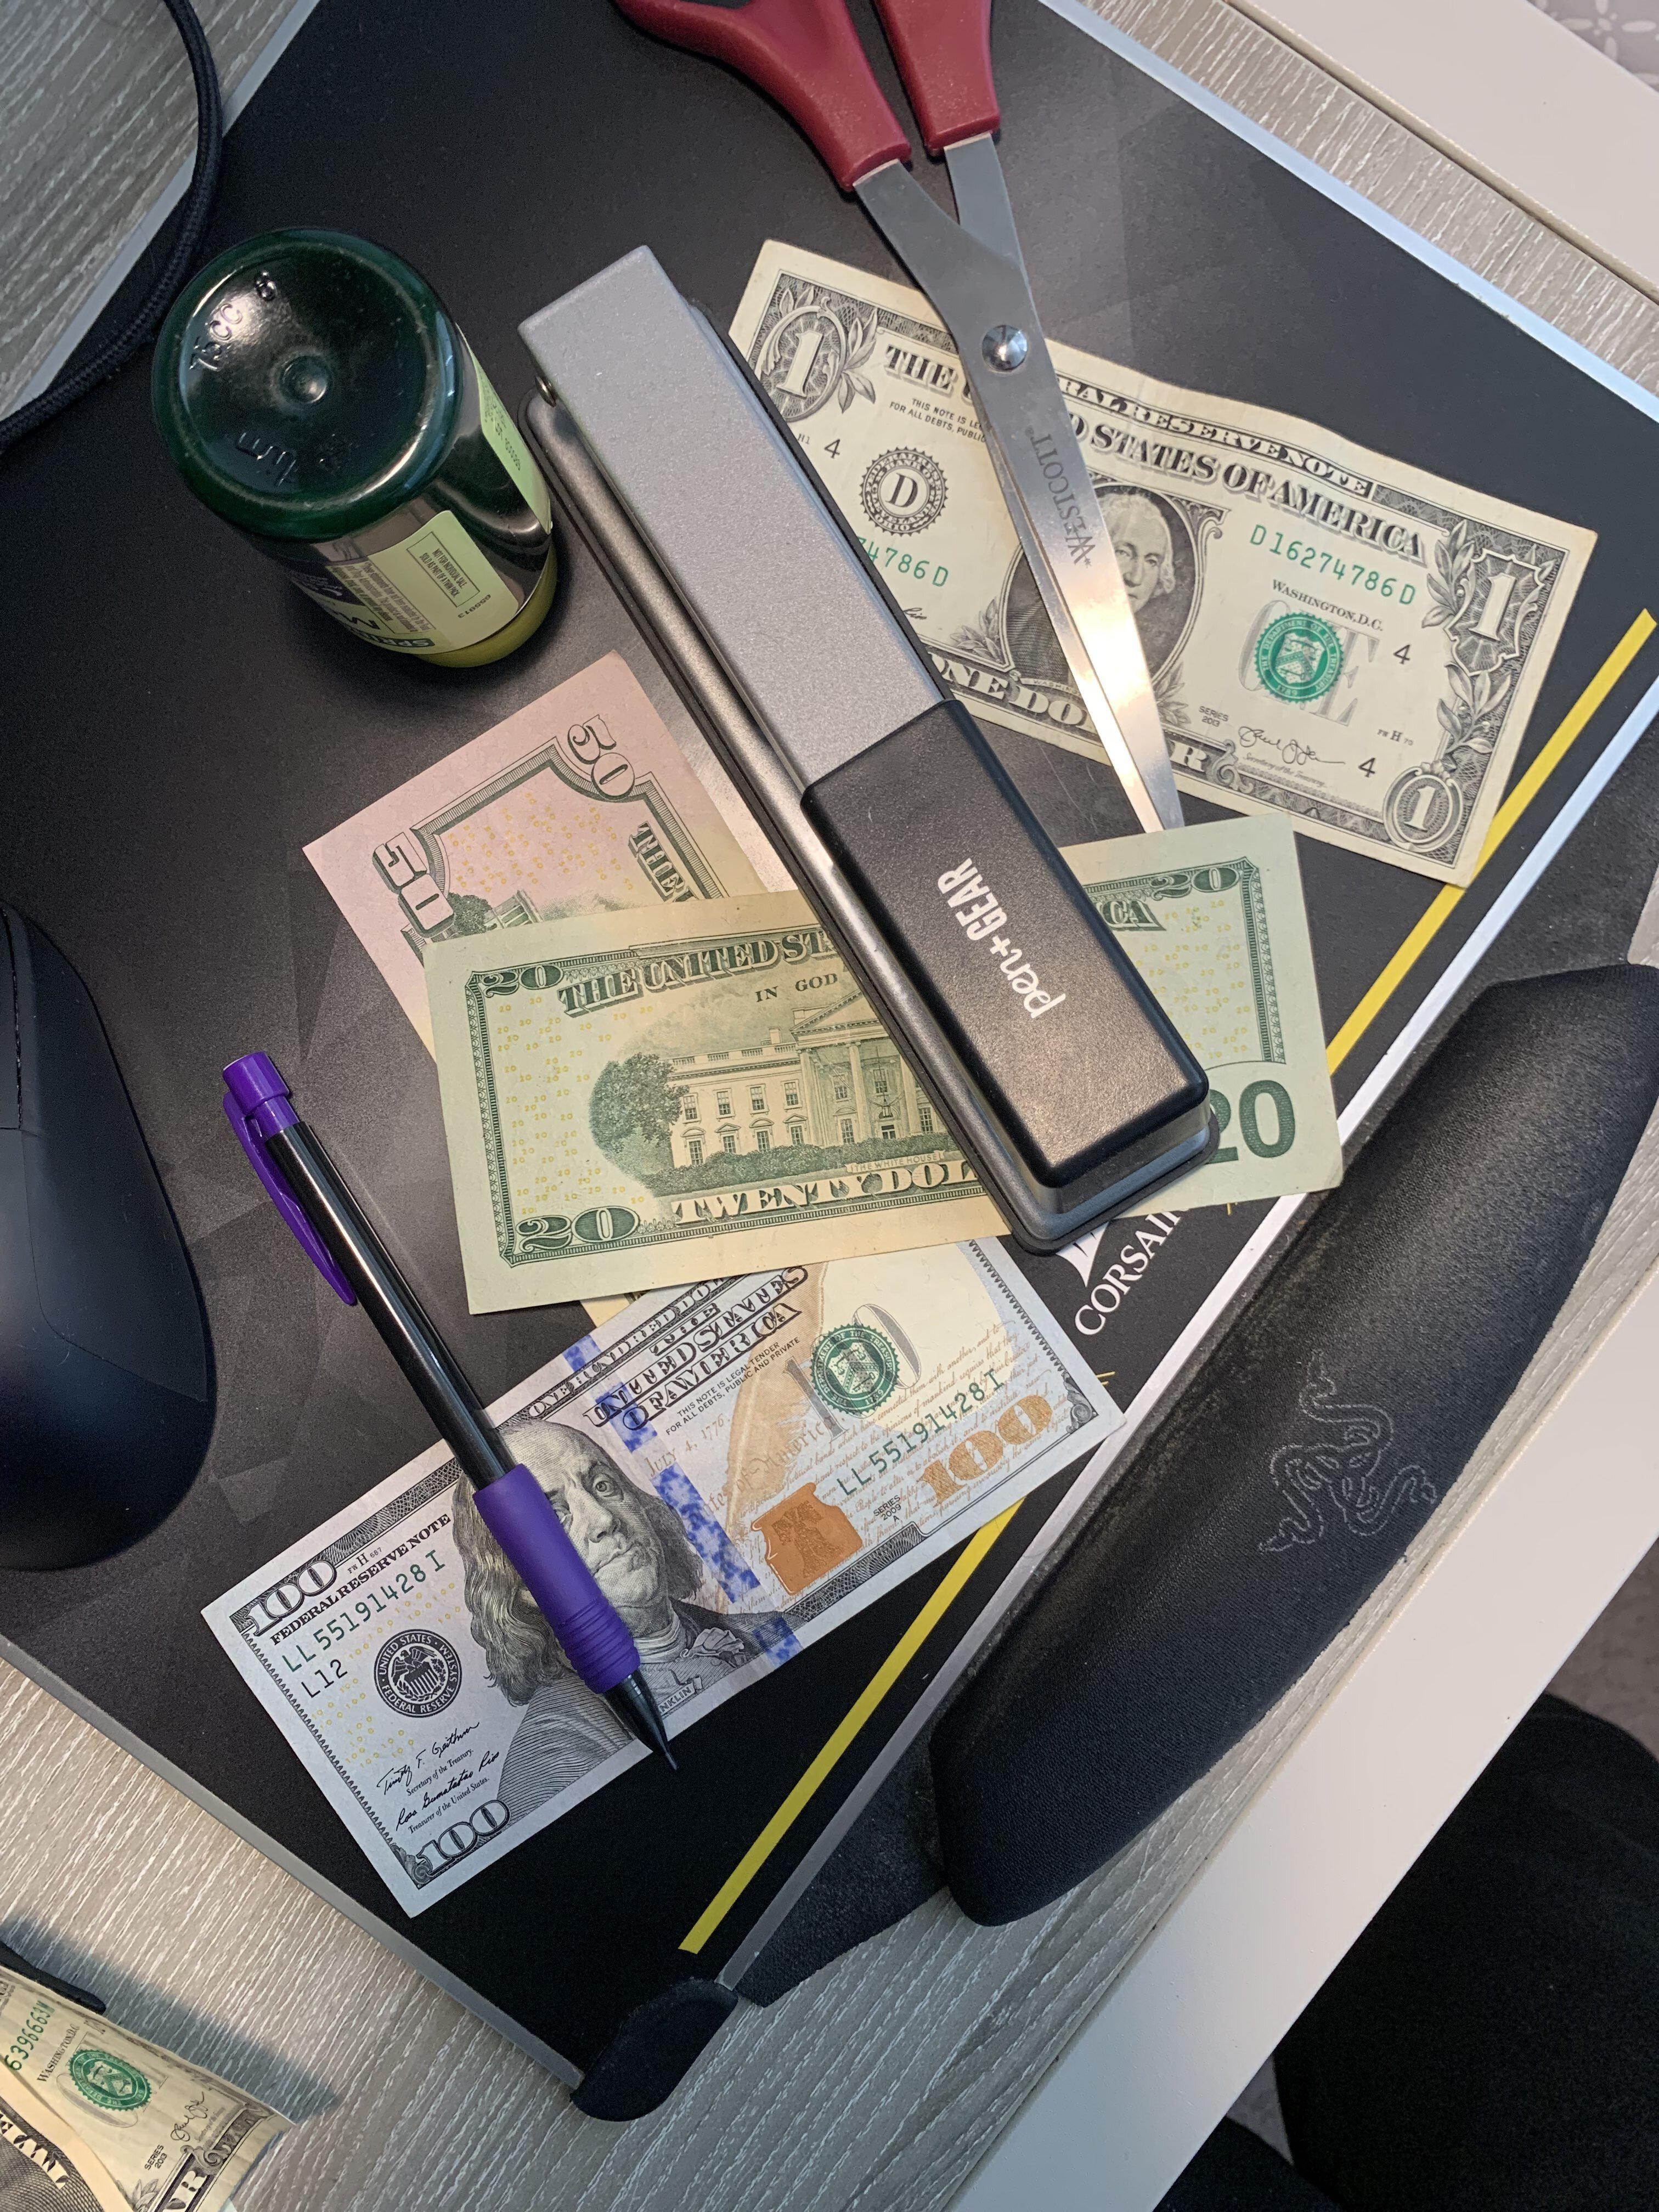FiftyBill: (274, 624, 831, 1322)
HundredBill: (192, 1197, 1141, 1973)
OneBill: (701, 214, 1608, 930), (2, 1952, 301, 2210)
TwentyBill: (410, 805, 1441, 1334), (2, 2048, 139, 2210)
